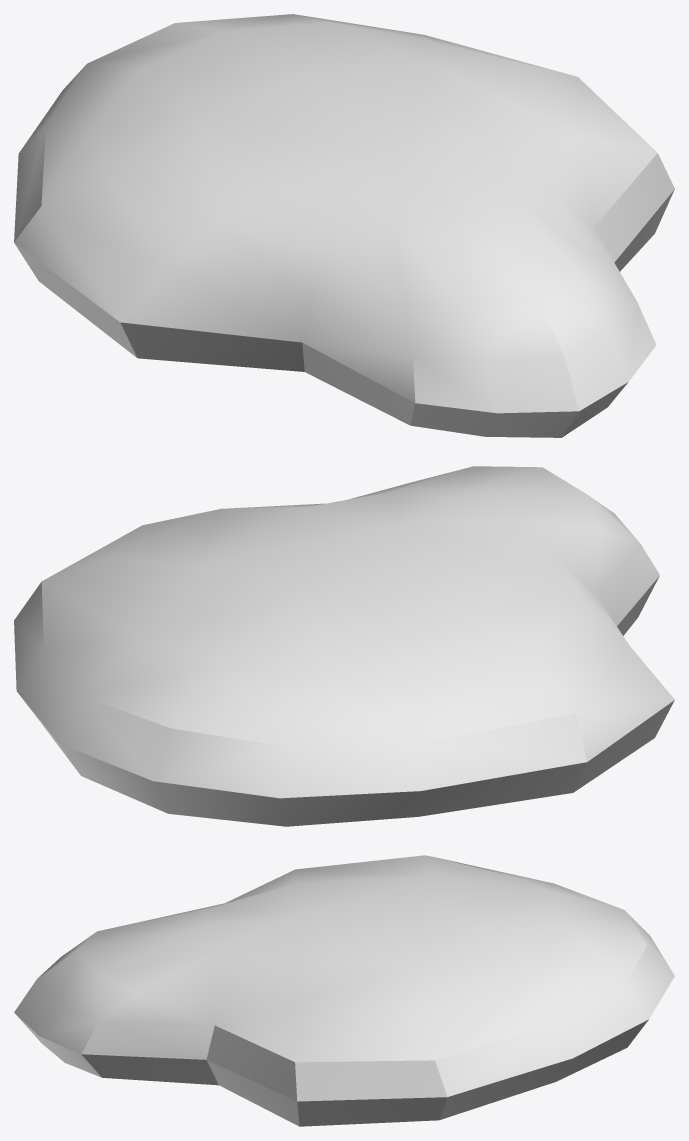
The model's file is SeaShell.fbx.
3 views of the same model, one above another, from view 1: azimuth 30°, elevation 25°; view 2: azimuth 150°, elevation 25°; view 3: azimuth 270°, elevation 25° (orthographic). The views are drawn at different scales.
Visible parts, largest first — view 1: SeaShell; view 2: SeaShell; view 3: SeaShell.
Boxes of the visible parts, left/top/right/bottom form: SeaShell: left=14, top=14, right=674, bottom=437; SeaShell: left=14, top=466, right=674, bottom=826; SeaShell: left=14, top=855, right=674, bottom=1126.
Bounding box in the file's own units: 1.78 × 0.5045 × 2.29.
